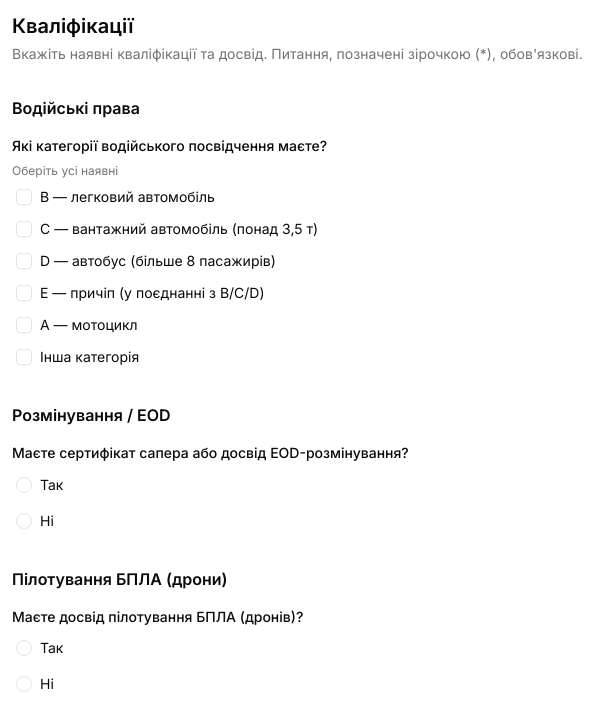
Scenario: QualificationsBlock — critical qualification sub-questions › shows demining sub-questions after answering Так
The width and height of the screenshot is (599, 727).
// First Так in demining section
Click the text "Так" below "Розмінування / EOD" at (52, 484), box 40,474 -> 64,494
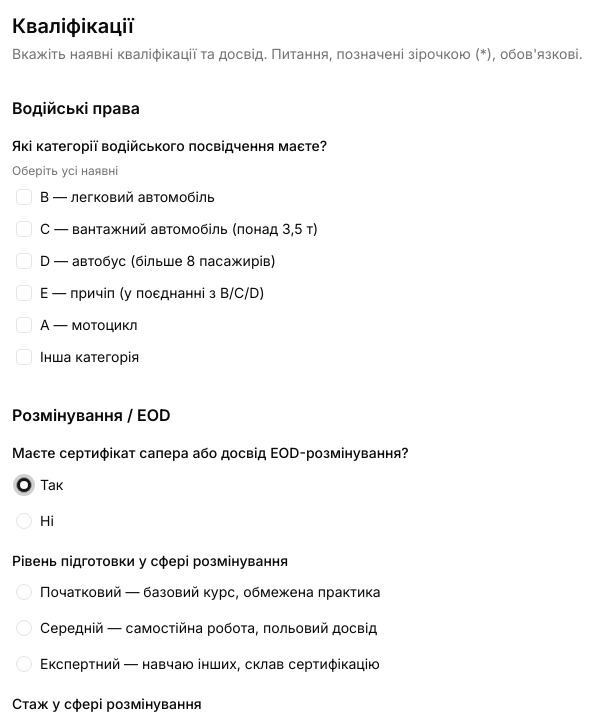
Check: the text "Рівень підготовки у сфері розмінування" is shown, box 12,552 -> 288,568
Check: the text "Стаж у сфері розмінування" is shown, box 12,695 -> 202,712
